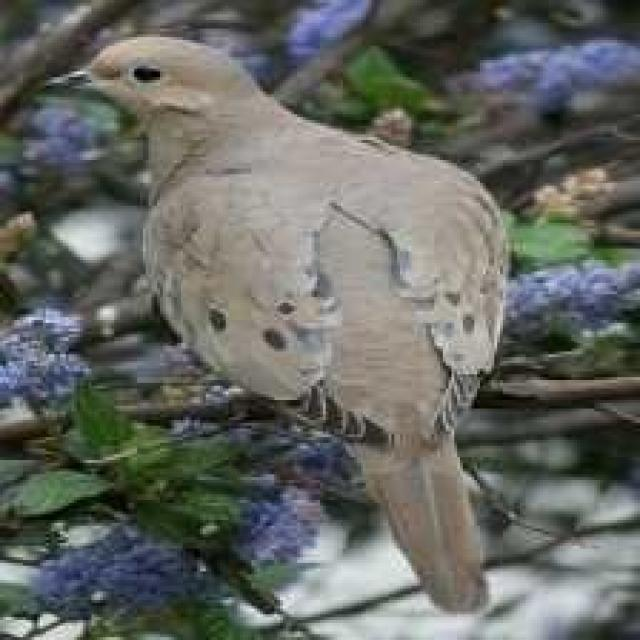bird: (35, 32, 540, 620)
